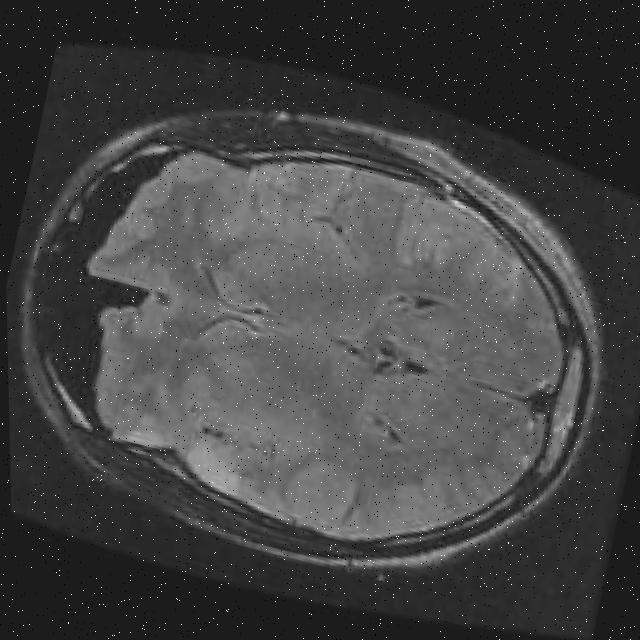NoTumor: (25, 63, 640, 614)
